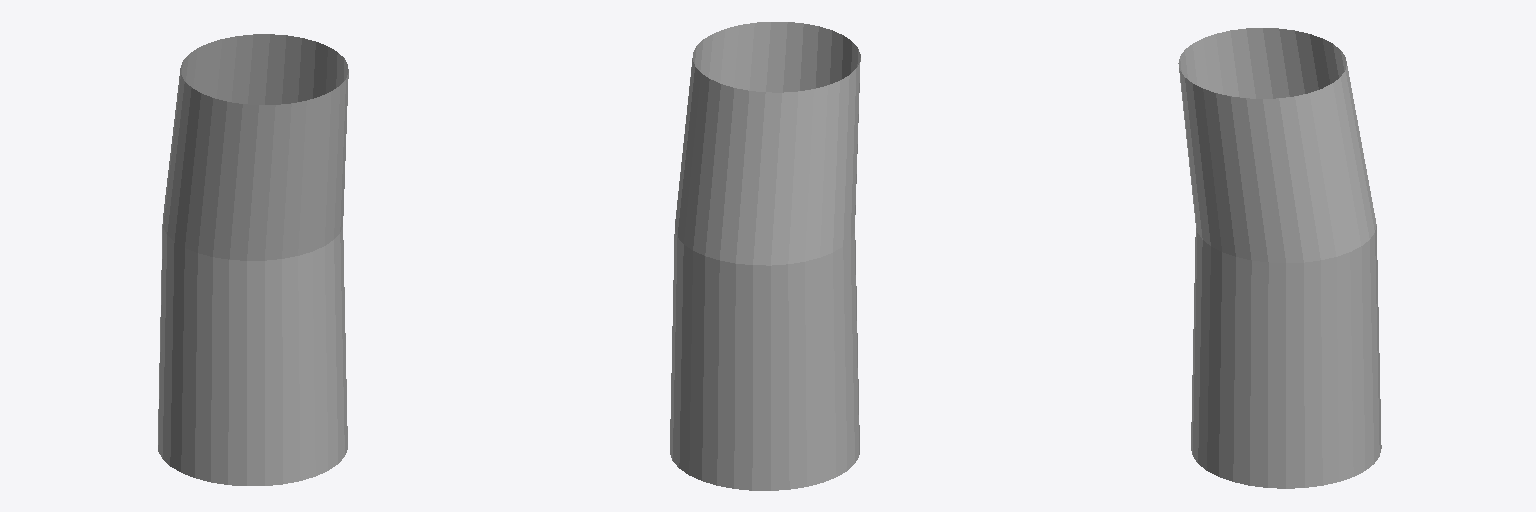
Rendered from Palmera Bottom.obj.
3 renders of one model, left to right at view 1: azimuth 30°, elevation 25°; view 2: azimuth 150°, elevation 25°; view 3: azimuth 270°, elevation 25°, orthographic.
Visible parts, largest first — view 1: Palmera_D1.1_Cilindro.005; view 2: Palmera_D1.1_Cilindro.005; view 3: Palmera_D1.1_Cilindro.005.
Part boxes in pixels (left/top/right/bottom): Palmera_D1.1_Cilindro.005: left=158, top=34, right=348, bottom=485; Palmera_D1.1_Cilindro.005: left=670, top=22, right=860, bottom=490; Palmera_D1.1_Cilindro.005: left=1178, top=28, right=1381, bottom=488.
Bounding box in the file's own units: 0.4753 × 1.06 × 0.5064.